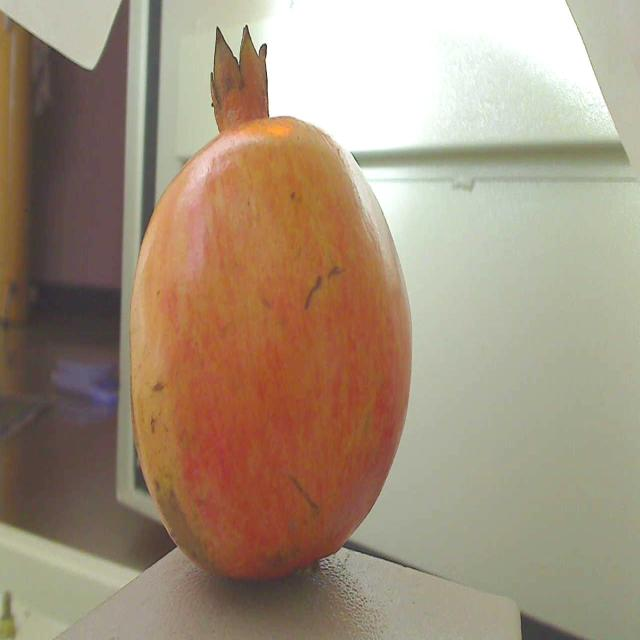pomegranate: (121, 6, 421, 602)
